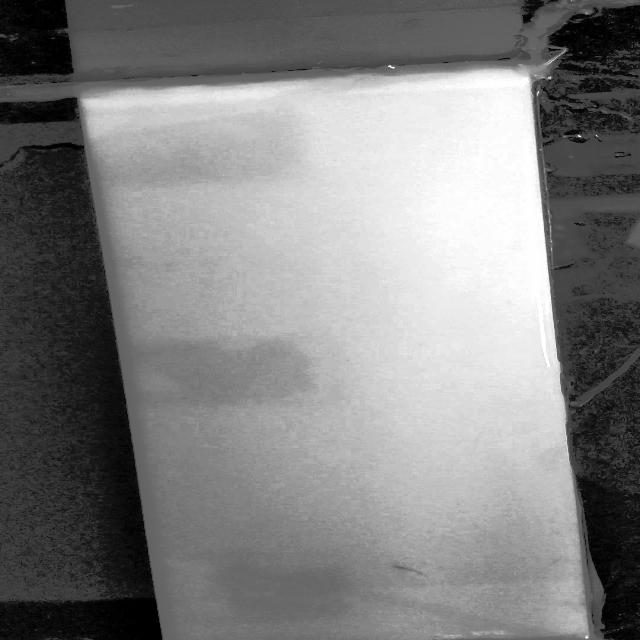shrimp: (389, 562, 434, 577)
